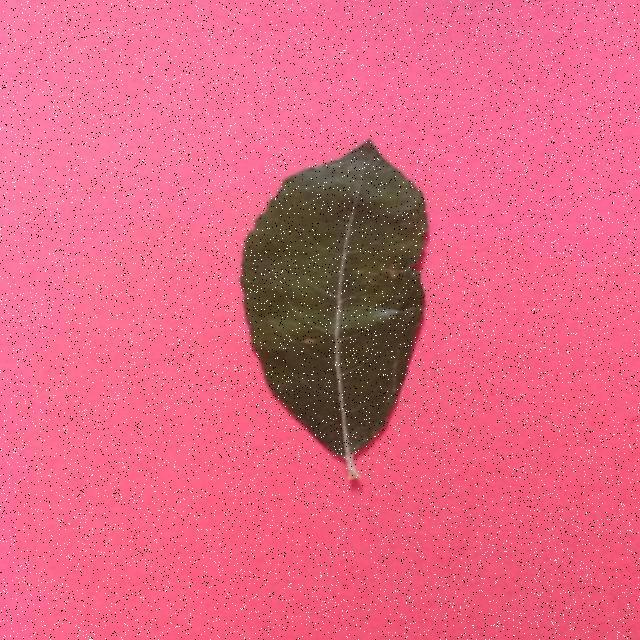foliage: (238, 137, 427, 483)
